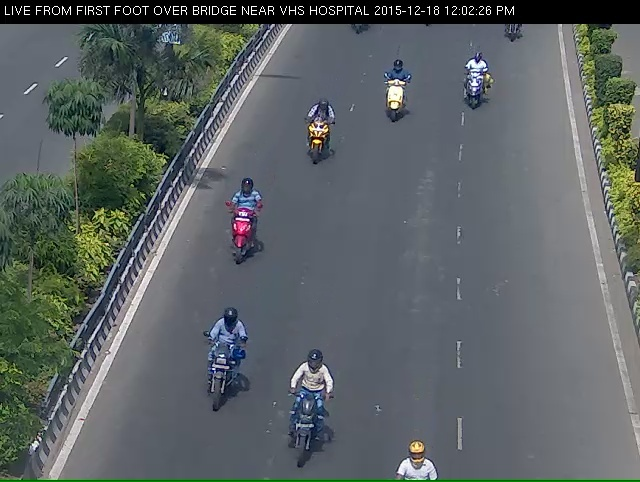Person: (180, 348, 236, 462), (267, 392, 323, 475), (212, 197, 257, 296), (296, 114, 335, 189), (377, 70, 411, 143), (459, 55, 489, 128)
